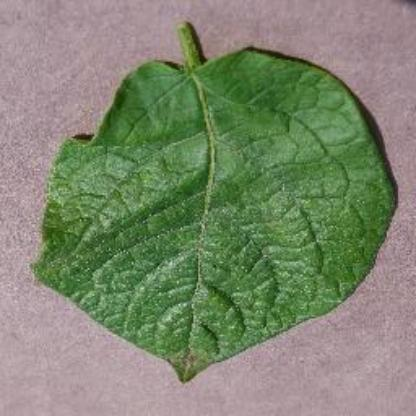Healthy-plant: (30, 19, 401, 388)
